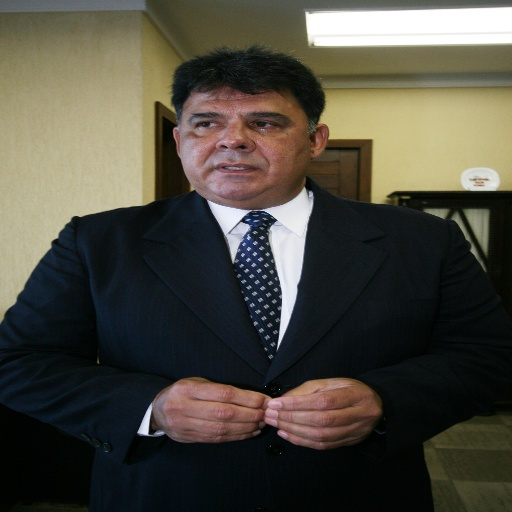hand: (261, 372, 376, 449), (150, 376, 273, 444)
